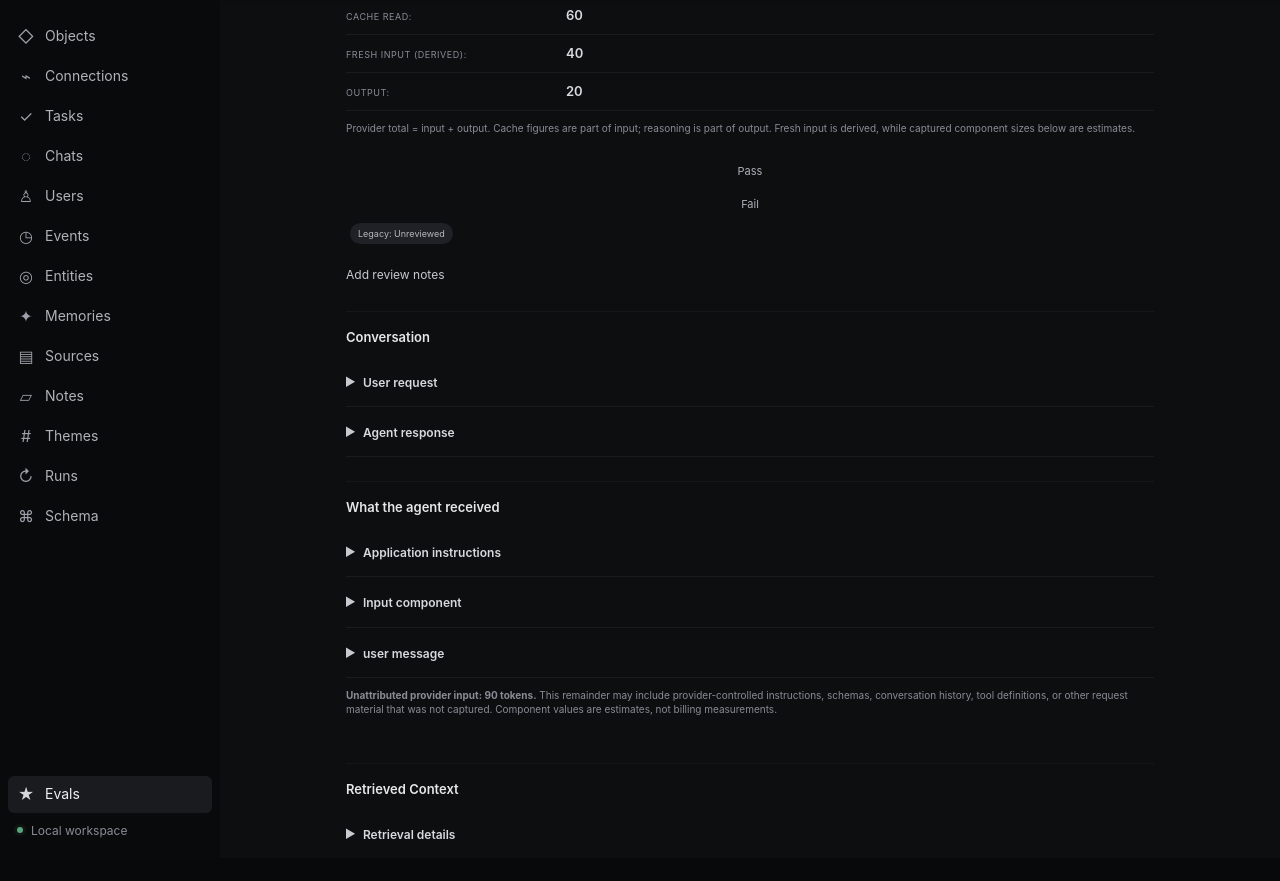
it: minimal canonical UI › explains a captured eval run and labels historical gaps
The image size is (1280, 881).
(page scrolled)
Click the heading "Agent response": (409, 433) [363, 425, 455, 440]
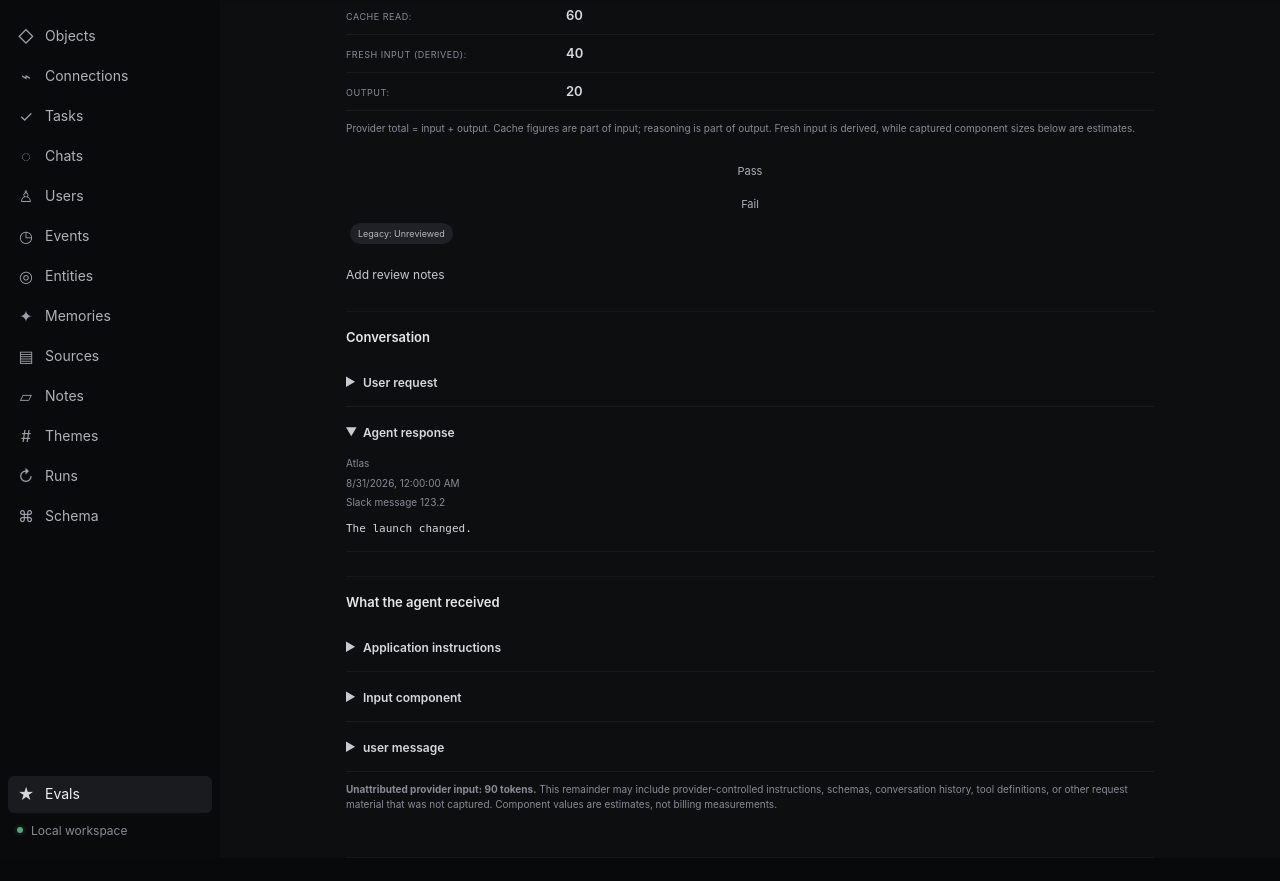
Result: the text "The launch changed." is shown at [346, 522, 472, 535]
Click the heading "Application instructions": (432, 647) [363, 640, 501, 655]
(page scrolled)
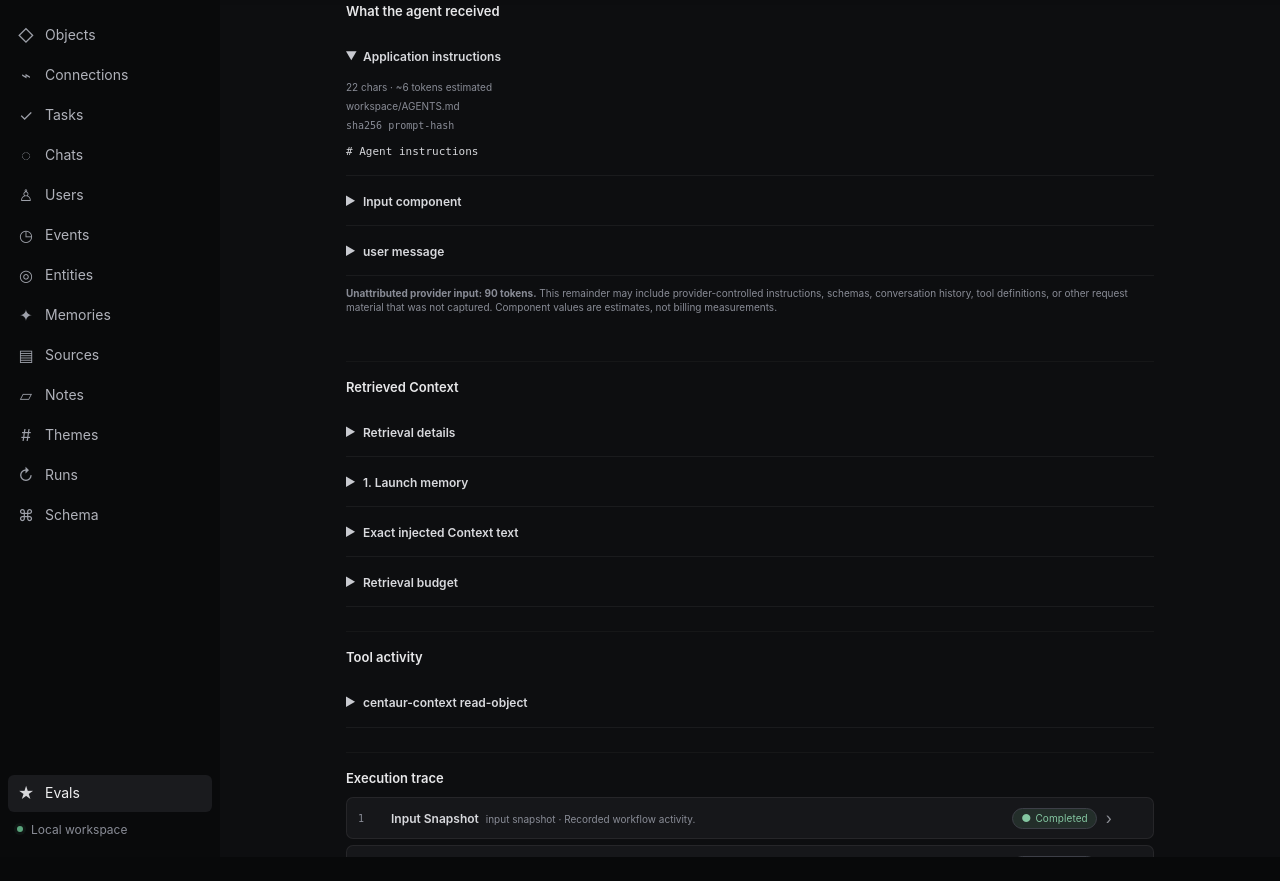
Expected: the text "Unattributed provider input: 90 tokens." is shown, [346, 287, 536, 299]
Result: the text "~6 tokens estimated" is shown at [387, 81, 492, 93]
Click the heading "Retrieval details": (409, 432) [363, 425, 455, 440]
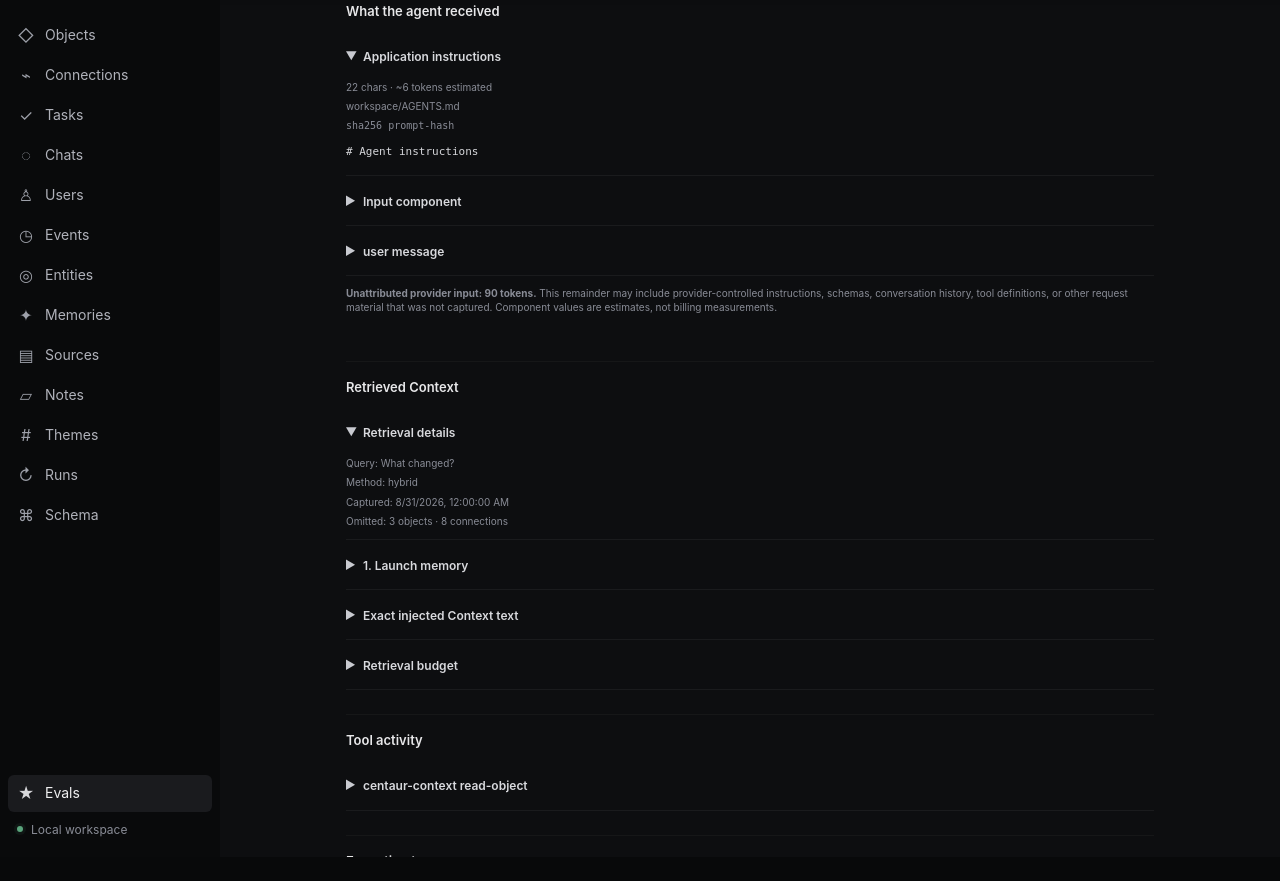
Result: the text "Omitted: 3 objects · 8 connections" is shown at [346, 514, 508, 529]
Click the heading "1. Launch memory": (416, 565) [363, 558, 468, 573]
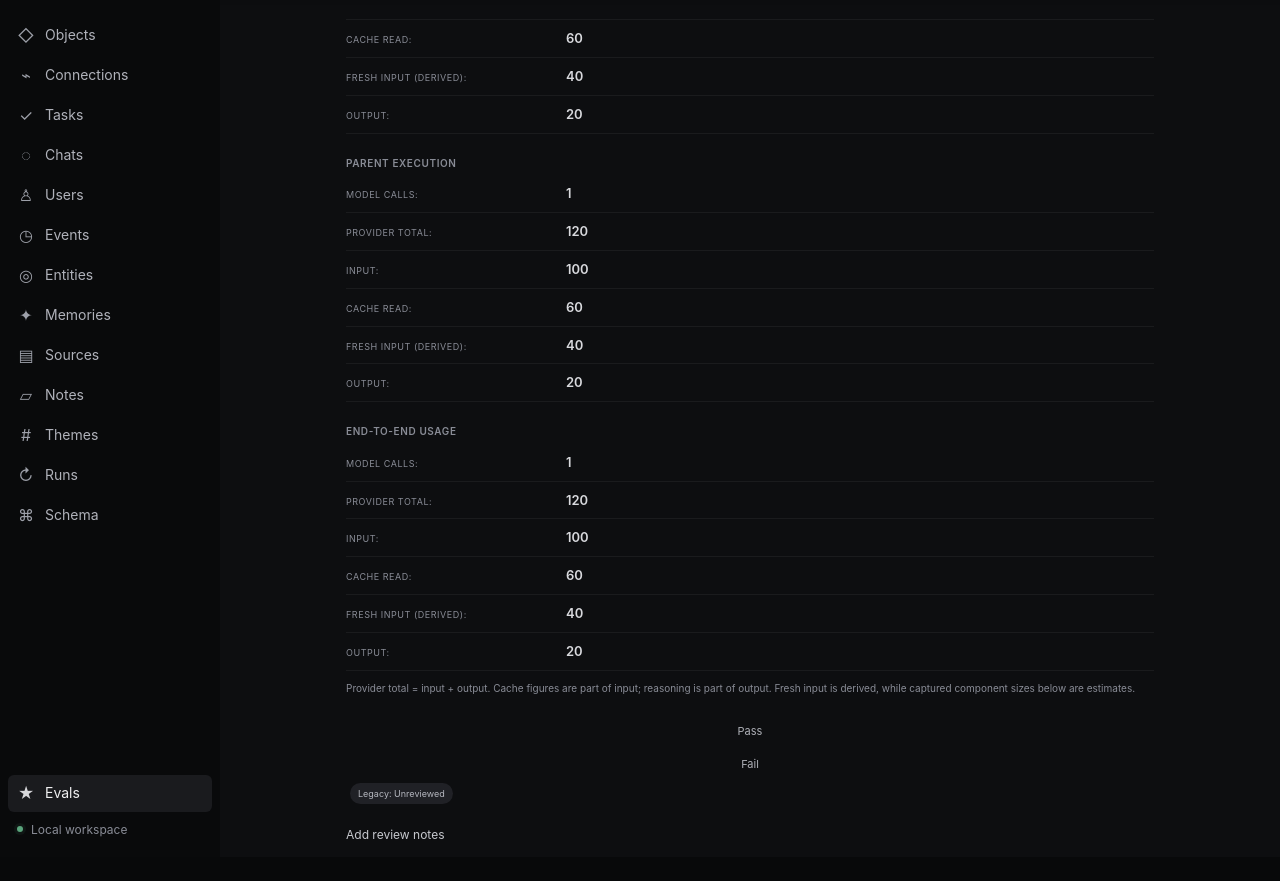
Result: the heading "Parent execution" is shown at [346, 157, 456, 169]
Result: the heading "End-to-end usage" is shown at [346, 425, 457, 437]
